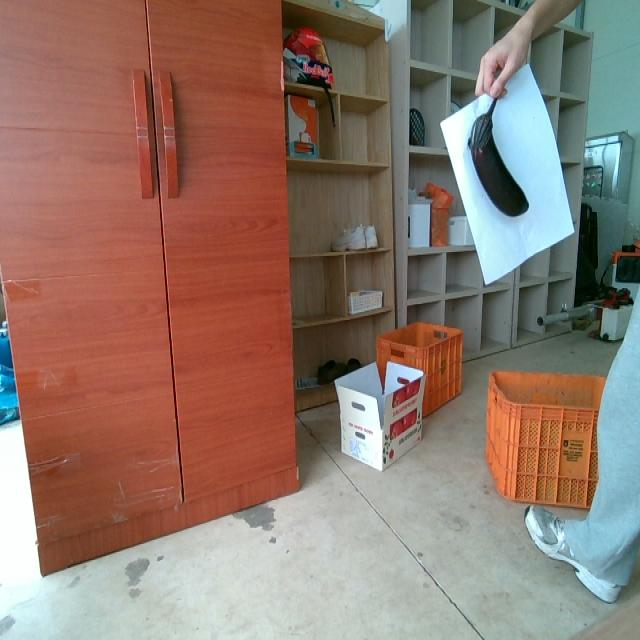Egg plant: (468, 99, 528, 216)
